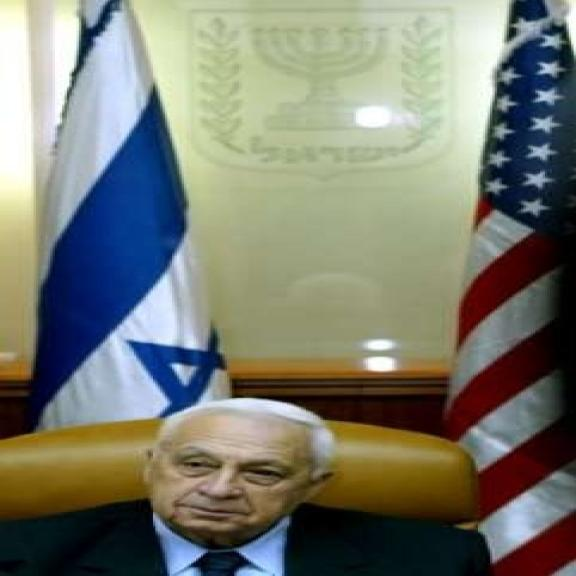face: (137, 406, 342, 536)
